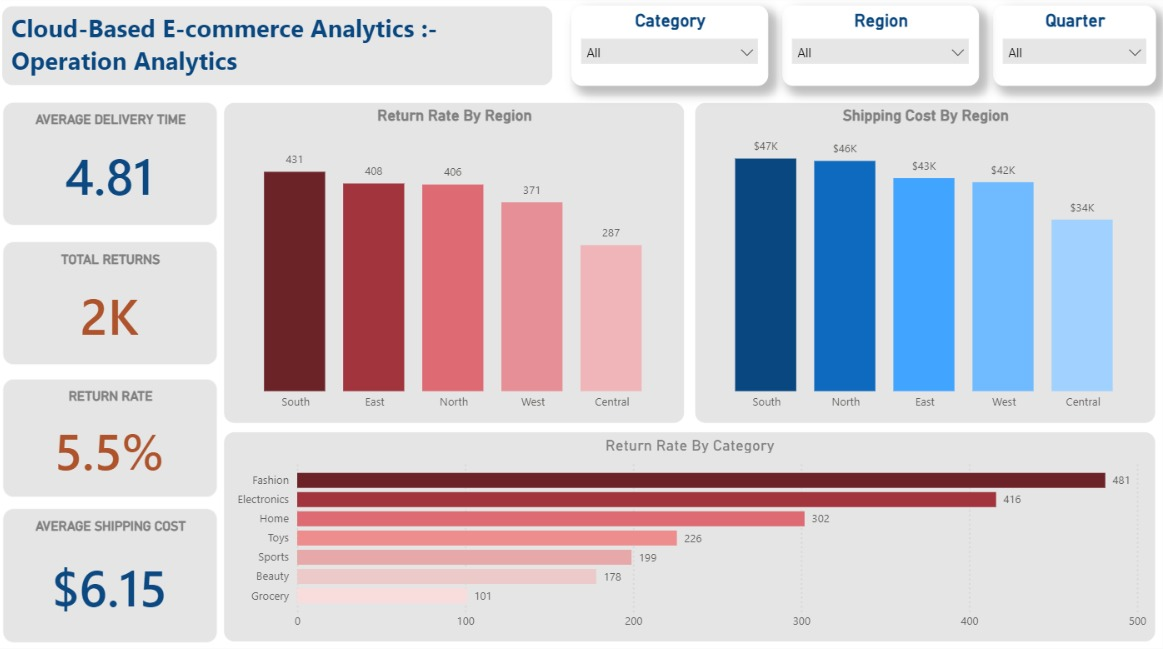

The page's visual inventory and layout, read from the dashboard file:
{"tool":"powerbi","page":{"name":"Operation Analysis","canvas":[1280,720],"ordinal":3},"visuals":[{"type":"textbox","box":[5.3,10.5,603.8,87.9],"z":0},{"type":"slicer","title":"Quarter","fields":{"Values":["orders.order_date.Variation.Date Hierarchy.Quarter"]},"box":[1090.7,10.5,178.5,87.9],"z":1000},{"type":"slicer","title":"Region","fields":{"Values":["orders.region"]},"box":[859.7,10.5,215.3,87.9],"z":2000},{"type":"slicer","title":"Category","fields":{"Values":["products.category"]},"box":[628.7,10.5,215.3,87.9],"z":3000},{"type":"cardVisual","title":"AVERAGE DELIVERY TIME","fields":{"Data":["orders.average_delivery_time"]},"box":[6.6,116.8,234.9,135.2],"z":4000},{"type":"cardVisual","title":"AVERAGE SHIPPING COST","fields":{"Data":["Avg(orders.shipping_cost)"]},"box":[6.6,561.8,234.9,147],"z":5000},{"type":"cardVisual","title":"TOTAL RETURNS","fields":{"Data":["Sum(orders.return_flag)"]},"box":[6.6,269.1,234.9,135.2],"z":6000},{"type":"cardVisual","title":"RETURN RATE","fields":{"Data":["orders.return_rate"]},"box":[6.6,420,234.9,129.9],"z":7000},{"type":"barChart","title":"Return Rate By Category","fields":{"Category":["products.category"],"Y":["Sum(orders.return_flag)"]},"box":[248.1,477.8,1021.1,231],"z":8000},{"type":"columnChart","title":"Shipping Cost By Region","fields":{"Y":["Sum(orders.shipping_cost)"],"Category":["orders.region"]},"box":[763.9,116.8,505.3,351.8],"z":9000},{"type":"columnChart","title":"Return Rate By Region","fields":{"Category":["orders.region"],"Y":["Sum(orders.return_flag)"]},"box":[248.1,116.8,505.3,351.8],"z":10000}]}

Visuals, with their boxes in screenshot pixels (x1, y1, x2, y2), scaled from the page's 1280x720 canvas onto the 1163x649 screenshot:
textbox: pyautogui.locateOnScreen(5, 9, 553, 89)
"Quarter" slicer: pyautogui.locateOnScreen(991, 9, 1153, 89)
"Region" slicer: pyautogui.locateOnScreen(781, 9, 977, 89)
"Category" slicer: pyautogui.locateOnScreen(571, 9, 767, 89)
"AVERAGE DELIVERY TIME" cardVisual: pyautogui.locateOnScreen(6, 105, 219, 227)
"AVERAGE SHIPPING COST" cardVisual: pyautogui.locateOnScreen(6, 506, 219, 639)
"TOTAL RETURNS" cardVisual: pyautogui.locateOnScreen(6, 243, 219, 364)
"RETURN RATE" cardVisual: pyautogui.locateOnScreen(6, 379, 219, 496)
"Return Rate By Category" barChart: pyautogui.locateOnScreen(225, 431, 1153, 639)
"Shipping Cost By Region" columnChart: pyautogui.locateOnScreen(694, 105, 1153, 422)
"Return Rate By Region" columnChart: pyautogui.locateOnScreen(225, 105, 685, 422)
